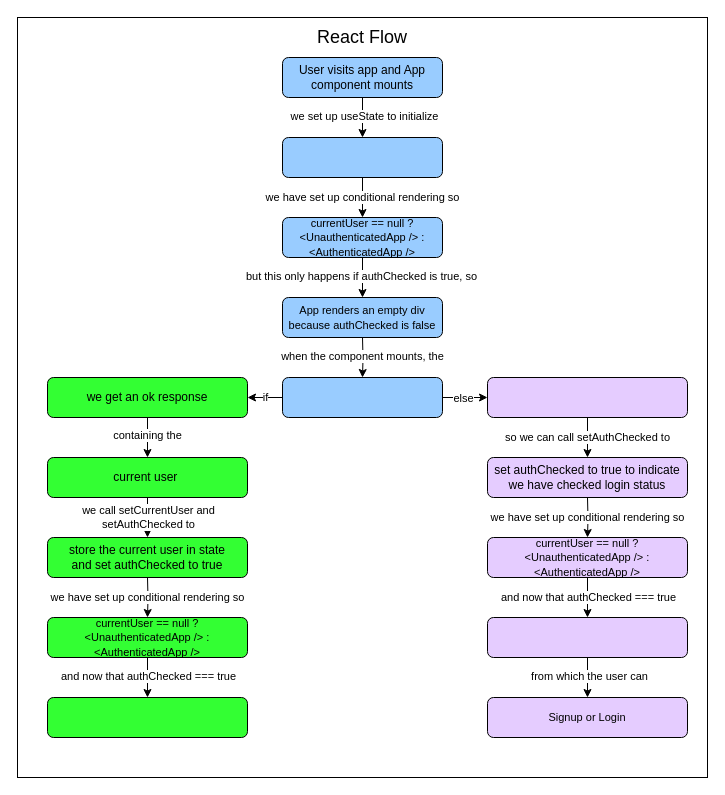
The diagram is 725 pixels wide and 795 high, and some of its shapes have lost their labels. Each missing label, with the centre of its shape:
"App renders AuthenticatedApp" belongs at (147,717).
"App renders UnauthenticatedApp" belongs at (587,637).
"currentUser as null, authChecked as false" belongs at (362,157).
"useEffect hook triggers a fetch to GET `/me`" belongs at (362,397).
"we get a 401 unauthorized response" belongs at (587,397).
